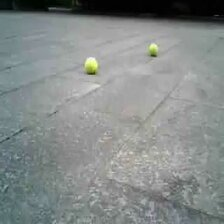tennis: (85, 57, 97, 71), (148, 42, 159, 55)
